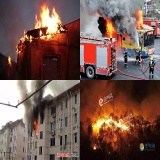fire: (16, 4, 65, 54), (91, 114, 157, 132), (134, 10, 145, 30), (105, 18, 114, 38), (33, 117, 39, 136), (7, 56, 12, 67), (93, 144, 99, 151)
